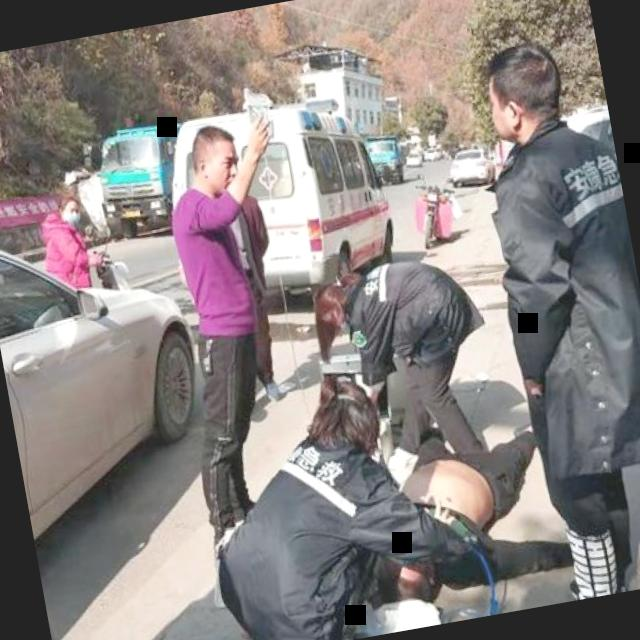Fall-Detected: (332, 372, 580, 636)
